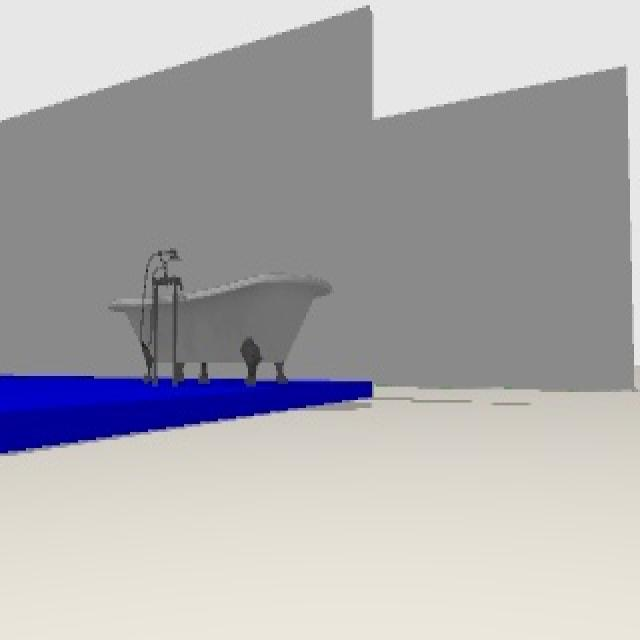bathtub: (111, 246, 336, 382)
